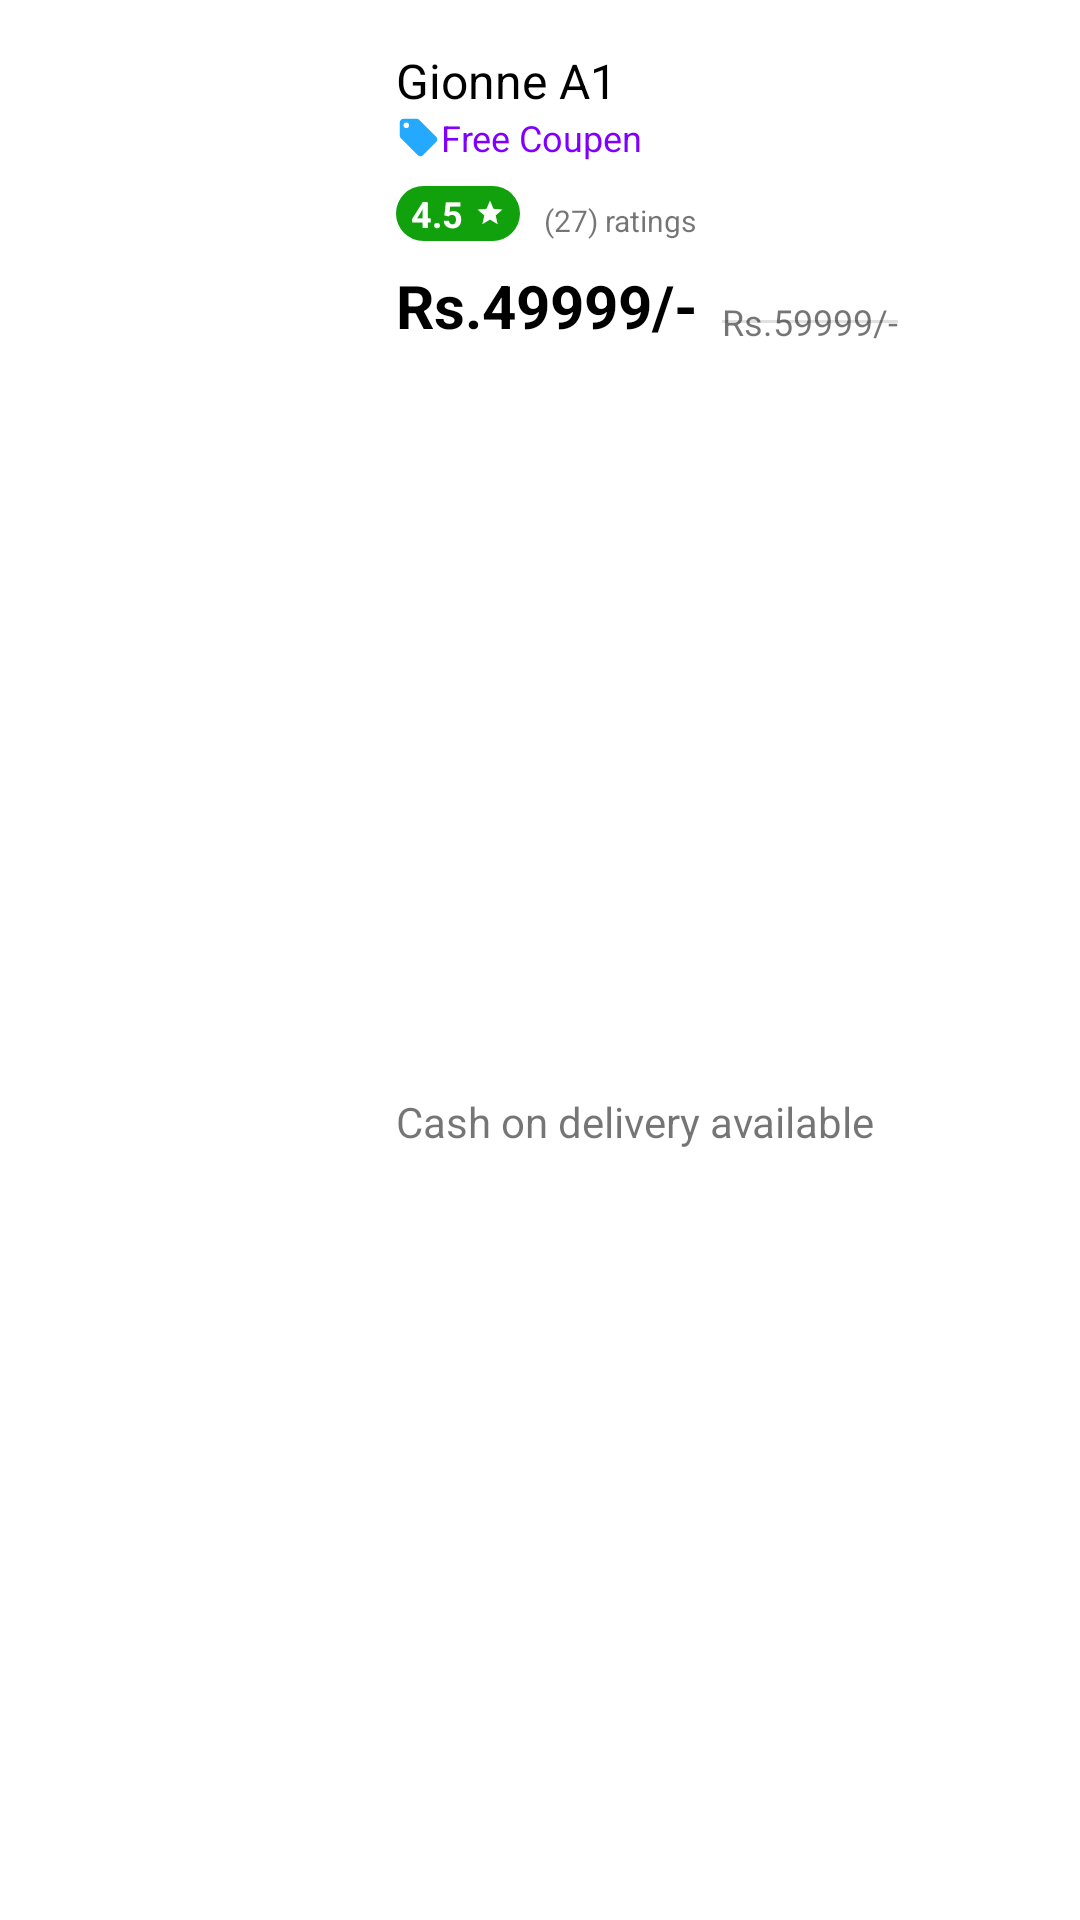

Screen size 1080px x 1920px. Icon name, then its box in pixels as (x1, y1, x2, y2):
local offer: (399, 118, 438, 157)
star: (477, 201, 503, 224)
